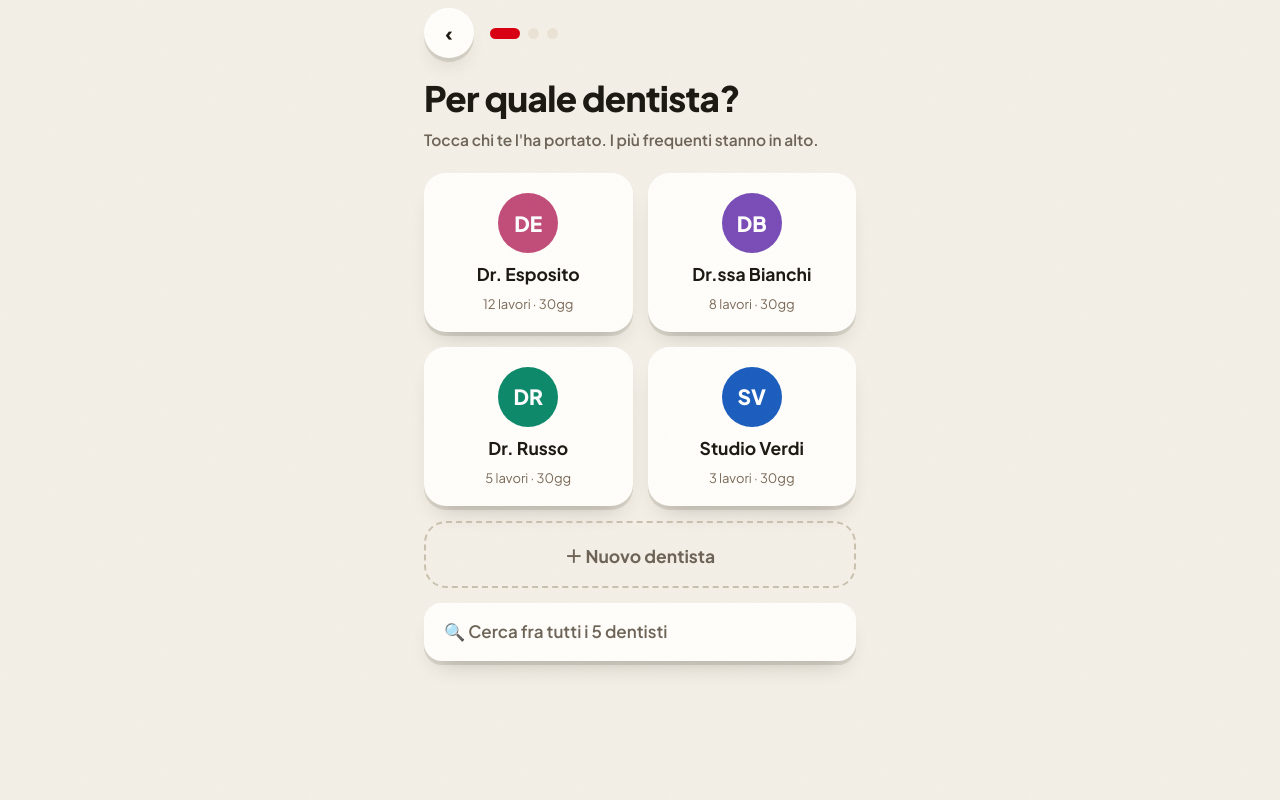
Scenario: WizardNuovoLavoro — wiring PassoTipo (Task 10) › tap su un tile tipo → salva il tipo e avanza al Passo 3 ("Chi è il paziente?")
What coordinates should you click on to do the following:
click the button "DE Dr. Esposito 12 lavori · 30gg"
I would click on:
 (528, 252)
Its box is [424,173,632,332].
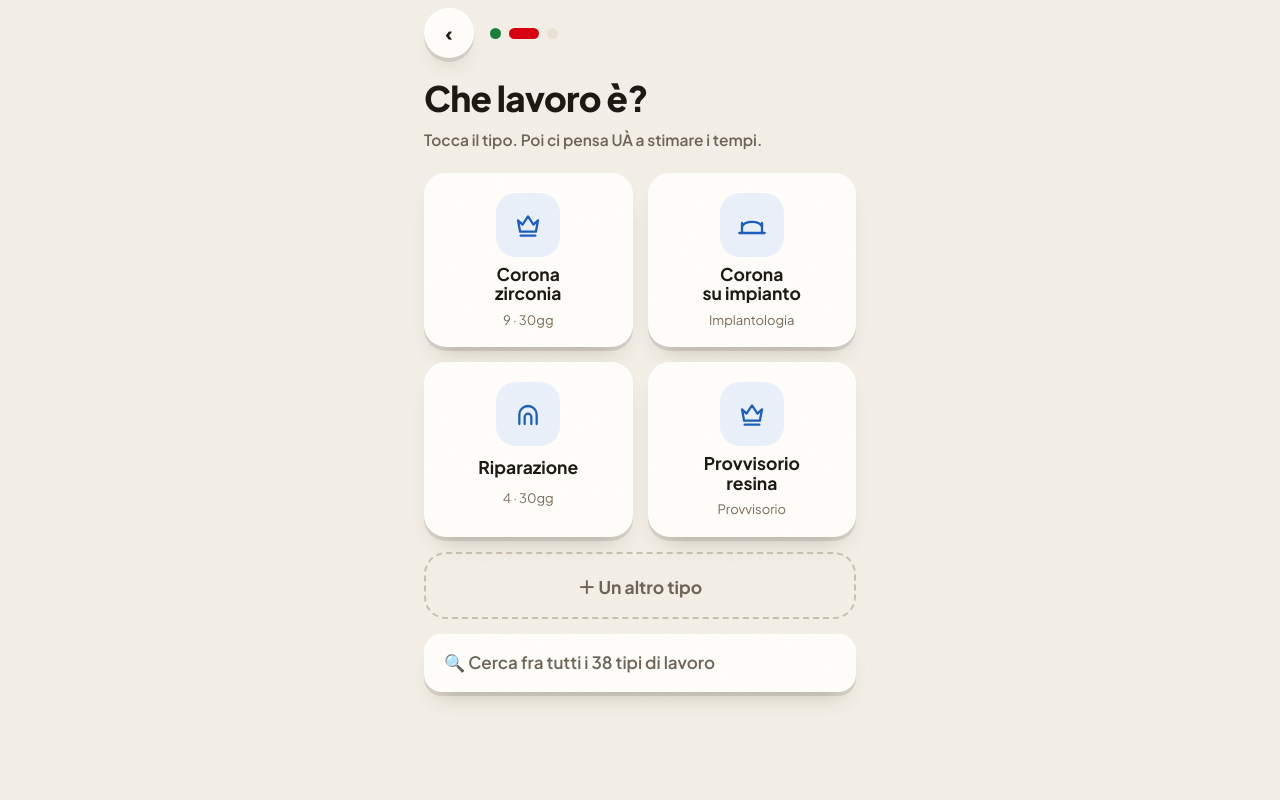
Now the heading "Che lavoro è?" is shown, box [424,76,648,120]
What coordinates should you click on to do the following:
click the button "Corona zirconia 9 · 30gg"
I would click on:
 (528, 260)
Its box is [424,173,632,347].
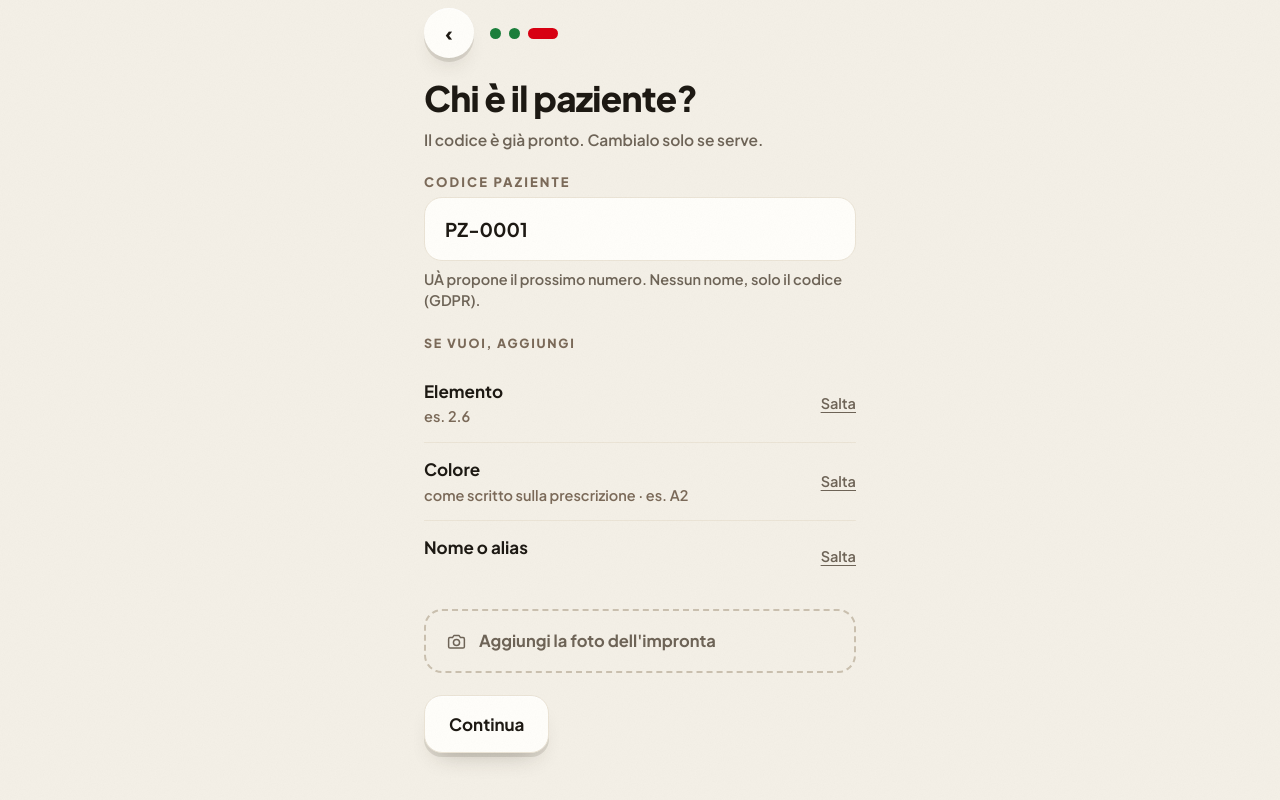
Now the heading "Chi è il paziente?" is shown, box [424,76,697,120]
